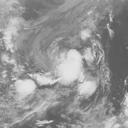cyclone: (10, 46, 103, 102)
